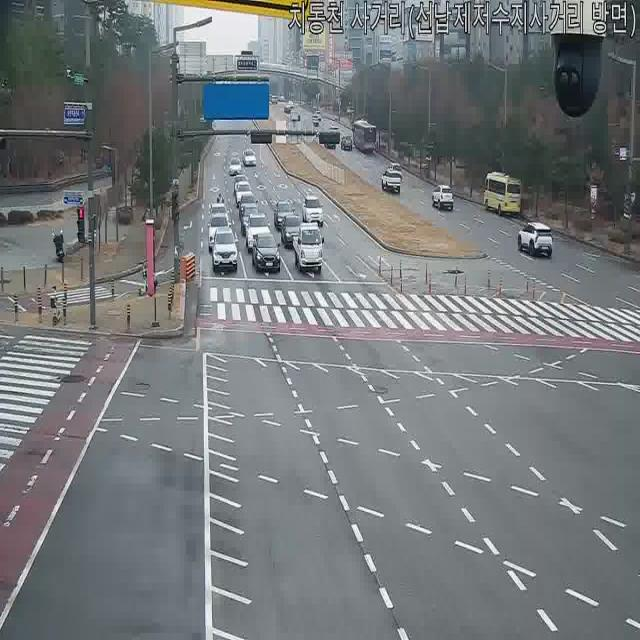Bus: (482, 172, 524, 216), (354, 119, 378, 154)
Car: (482, 172, 524, 216), (516, 220, 554, 258), (210, 228, 238, 274), (251, 233, 281, 274), (244, 214, 272, 252), (207, 214, 232, 250), (282, 214, 306, 249), (301, 195, 324, 228), (273, 198, 296, 230), (208, 201, 230, 231), (240, 207, 262, 235), (432, 184, 454, 211), (381, 168, 402, 194), (239, 193, 258, 220), (235, 180, 252, 208), (384, 161, 404, 182), (228, 156, 242, 176), (234, 174, 248, 194), (242, 149, 256, 167), (327, 125, 341, 142), (341, 134, 353, 150), (289, 109, 300, 123), (312, 112, 321, 126), (269, 93, 278, 104), (284, 103, 292, 115)
Motorcycle: (214, 190, 224, 214)
Truck: (294, 222, 324, 273)
